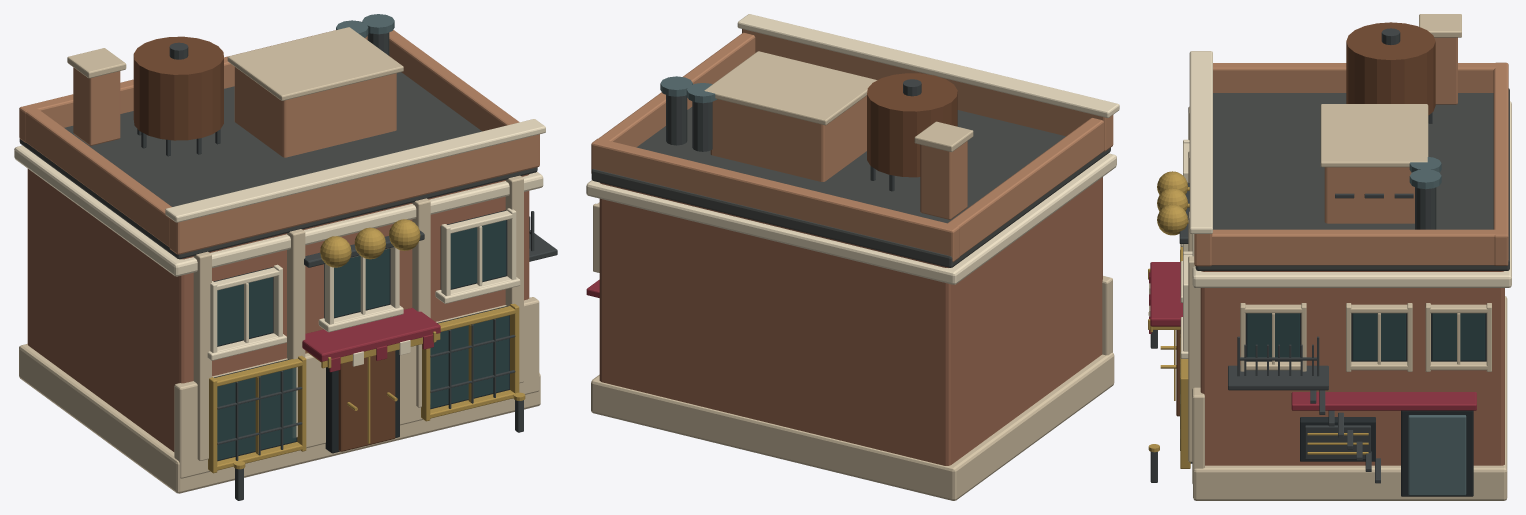
Rendered from pawnshop.1a95f97569d9.glb.
3 views of the same model, side by side, from view 1: azimuth 30°, elevation 25°; view 2: azimuth 150°, elevation 25°; view 3: azimuth 270°, elevation 25° (orthographic). The views are drawn at different scales.
Parts seen in each view (by area): view 1: Main brick volume, Roof slab, Stepped parapet front, Limestone plinth, Roof utility room, Roof water tank, Upper cornice, Utility room cap, Ground-floor limestone band, Parapet cap front, Parapet left, Display left_glass (+40 smaller); view 2: Main brick volume, Limestone plinth, Roof slab, Parapet back, Upper cornice, Roof utility room, Utility room cap, Stepped parapet front, Roof water tank, Parapet cap front, Parapet left, Parapet right (+5 smaller); view 3: Main brick volume, Roof slab, Parapet right, Limestone plinth, Utility room cap, Roof water tank, Upper cornice, Parapet left, Roof utility room, Service steel door, Parapet cap front, Service canopy (+33 smaller).
Boxes of the visible parts, <box> form: Main brick volume: <box>27,169,529,451</box>; Roof slab: <box>19,72,537,259</box>; Stepped parapet front: <box>169,134,539,254</box>; Limestone plinth: <box>19,344,540,493</box>; Roof utility room: <box>234,67,396,157</box>; Roof water tank: <box>133,36,223,140</box>; Upper cornice: <box>14,145,543,276</box>; Utility room cap: <box>227,27,403,100</box>; Ground-floor limestone band: <box>174,297,539,478</box>; Parapet cap front: <box>165,119,545,222</box>; Parapet left: <box>26,108,171,246</box>; Display left_glass: <box>217,367,296,460</box>; Main brick volume: <box>599,177,1102,465</box>; Limestone plinth: <box>591,352,1114,500</box>; Roof slab: <box>591,107,1110,267</box>; Parapet back: <box>591,138,959,261</box>; Upper cornice: <box>586,153,1116,284</box>; Roof utility room: <box>710,96,866,181</box>; Utility room cap: <box>704,51,877,125</box>; Stepped parapet front: <box>742,29,1113,151</box>; Roof water tank: <box>867,73,957,177</box>; Parapet cap front: <box>737,14,1119,117</box>; Parapet left: <box>947,118,1103,256</box>; Parapet right: <box>599,32,755,147</box>; Main brick volume: <box>1200,271,1504,465</box>; Roof slab: <box>1195,88,1509,270</box>; Parapet right: <box>1212,229,1496,265</box>; Limestone plinth: <box>1193,296,1507,500</box>; Utility room cap: <box>1320,104,1428,167</box>; Roof water tank: <box>1346,22,1435,115</box>; Upper cornice: <box>1192,101,1511,287</box>; Parapet left: <box>1213,63,1496,92</box>; Roof utility room: <box>1324,167,1414,223</box>; Service steel door: <box>1408,415,1466,495</box>; Parapet cap front: <box>1189,51,1212,233</box>; Service canopy: <box>1291,392,1476,410</box>.
Size of the model in its own units: 13.9 by 11.48 by 10.99.
